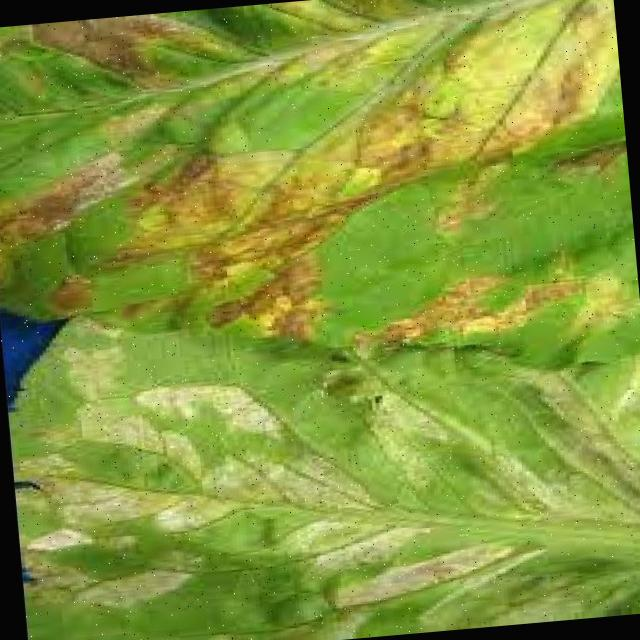Downy_Mildew: (12, 1, 616, 315), (55, 357, 640, 640)
